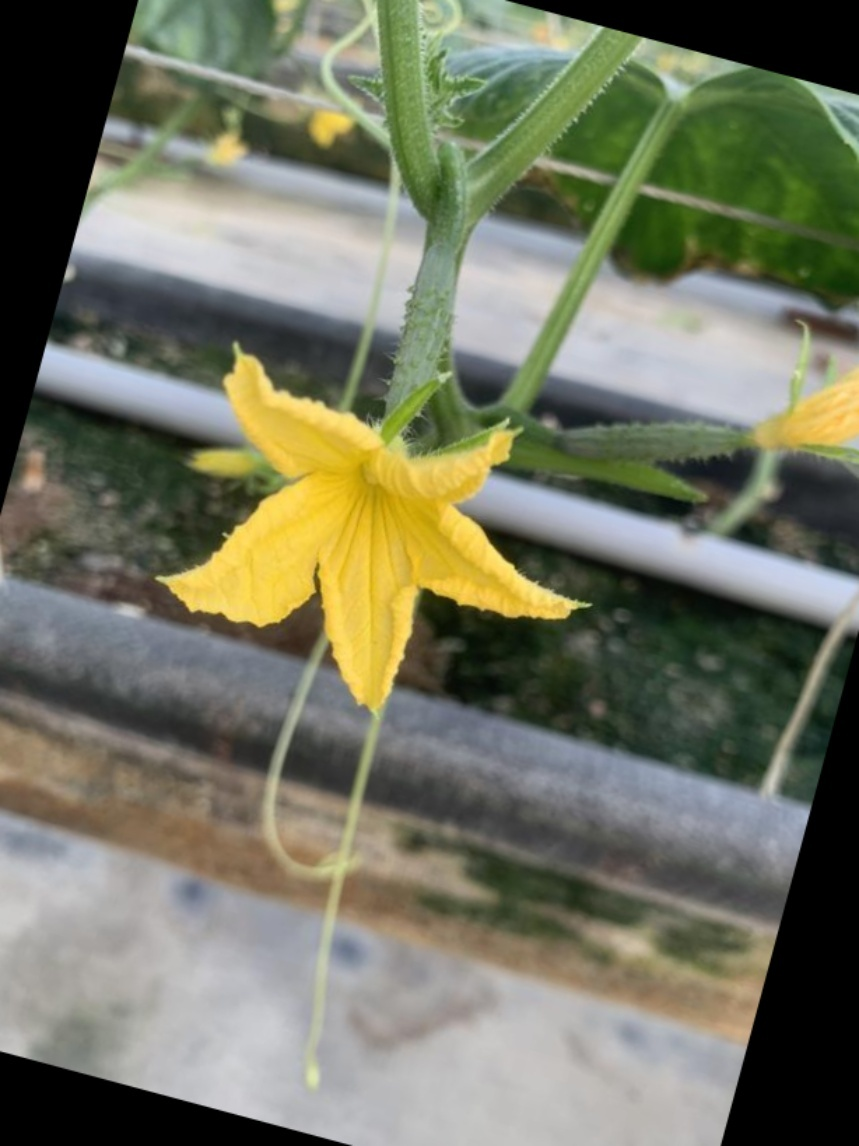flowering: (170, 230, 595, 704)
